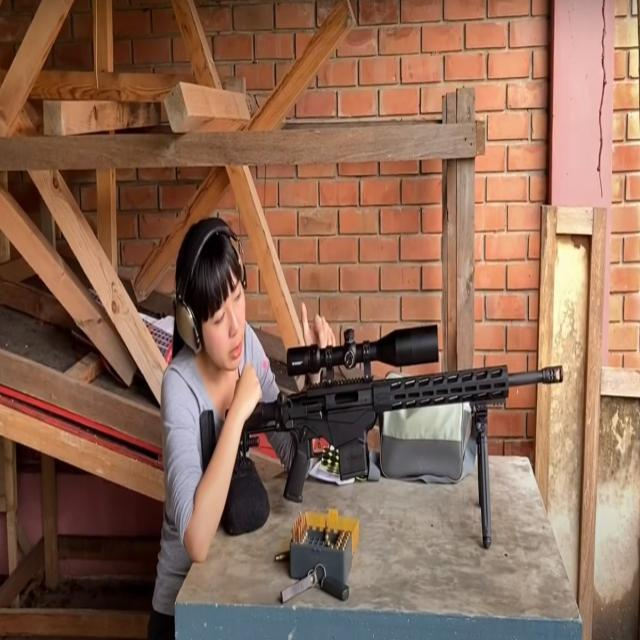rifle: (195, 322, 568, 562)
